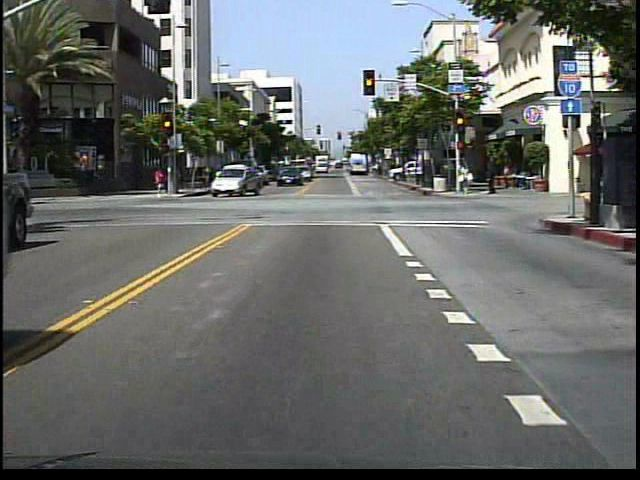person: (454, 158, 474, 198), (483, 160, 498, 198), (155, 166, 170, 197)
